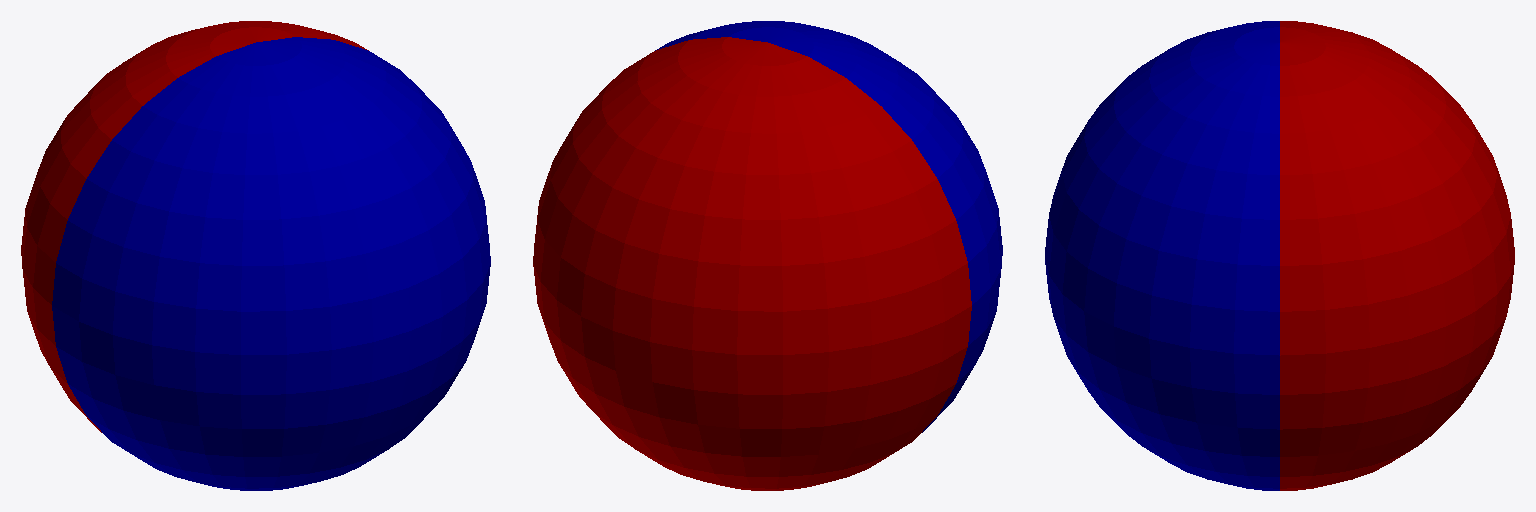
The model's file is sphere_hsmooth.obj.
The picture shows the model from 3 angles: view 1: azimuth 30°, elevation 25°; view 2: azimuth 150°, elevation 25°; view 3: azimuth 270°, elevation 25°; orthographic projection.
Parts seen in each view (by area): view 1: Mesh_Sphere.001; view 2: Mesh_Sphere.001; view 3: Mesh_Sphere.001.
Boxes of the visible parts, x1,y1,x2,y2 form: Mesh_Sphere.001: [21, 21, 490, 490]; Mesh_Sphere.001: [533, 21, 1002, 490]; Mesh_Sphere.001: [1045, 21, 1514, 490].
Bounding box in the file's own units: 1 × 1 × 1.